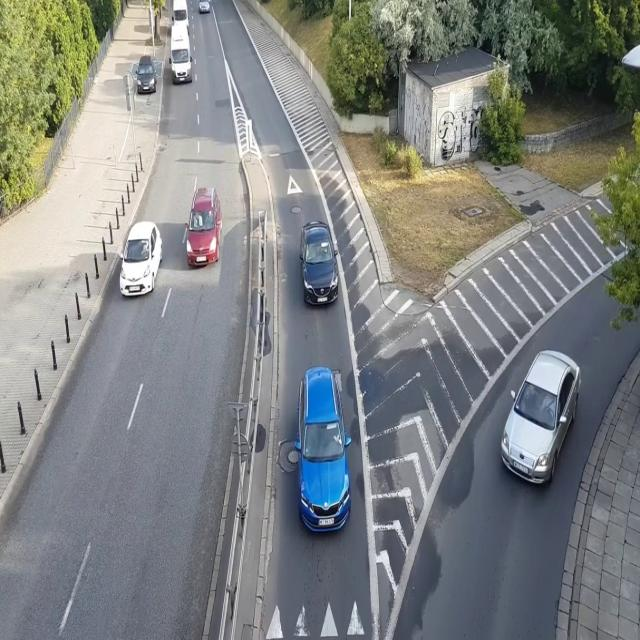car: (502, 346, 582, 491), (293, 364, 353, 534), (298, 219, 340, 306), (118, 219, 164, 297), (185, 187, 223, 269), (135, 54, 157, 94), (198, 0, 210, 13)
van: (168, 24, 193, 85), (171, 0, 190, 35)
